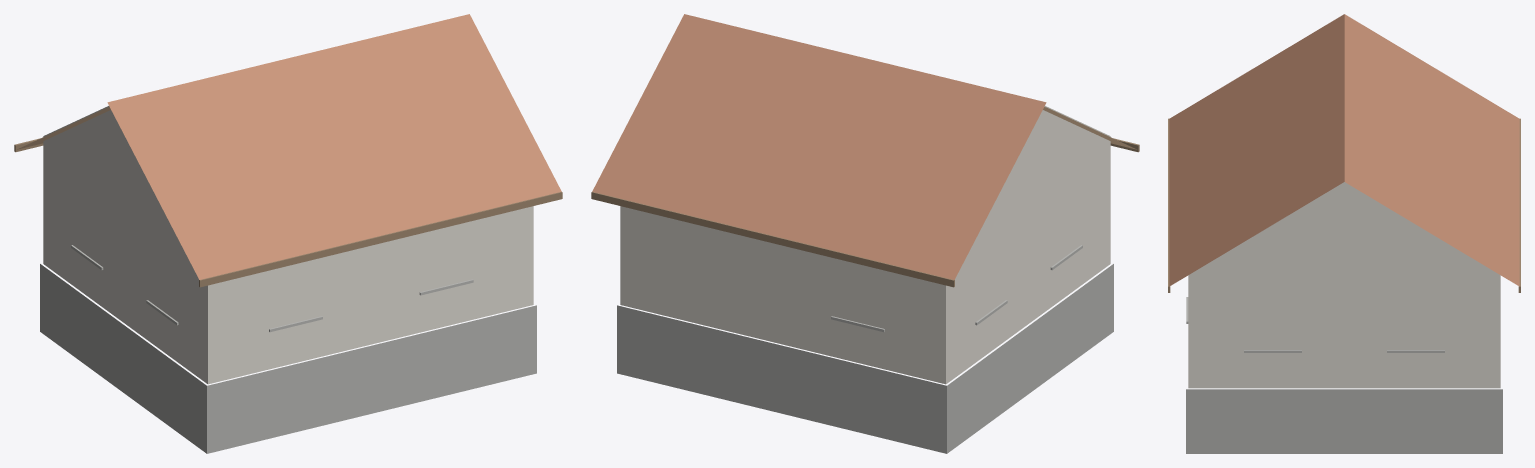
The model's file is cottage.glb.
3 views of the same model, side by side, from view 1: azimuth 30°, elevation 25°; view 2: azimuth 150°, elevation 25°; view 3: azimuth 270°, elevation 25° (orthographic). The views are drawn at different scales.
Visible parts, largest first — view 1: hi, far; view 2: hi, far; view 3: hi, far.
Boxes of the visible parts, x1,y1,x2,y2 form: hi: (14,14,562,453); far: (43,142,533,383); hi: (591,14,1139,453); far: (620,141,1110,383); hi: (1168,14,1520,453); far: (1188,267,1500,388).
Bounding box in the file's own units: 8.9 × 6.91 × 7.9.
